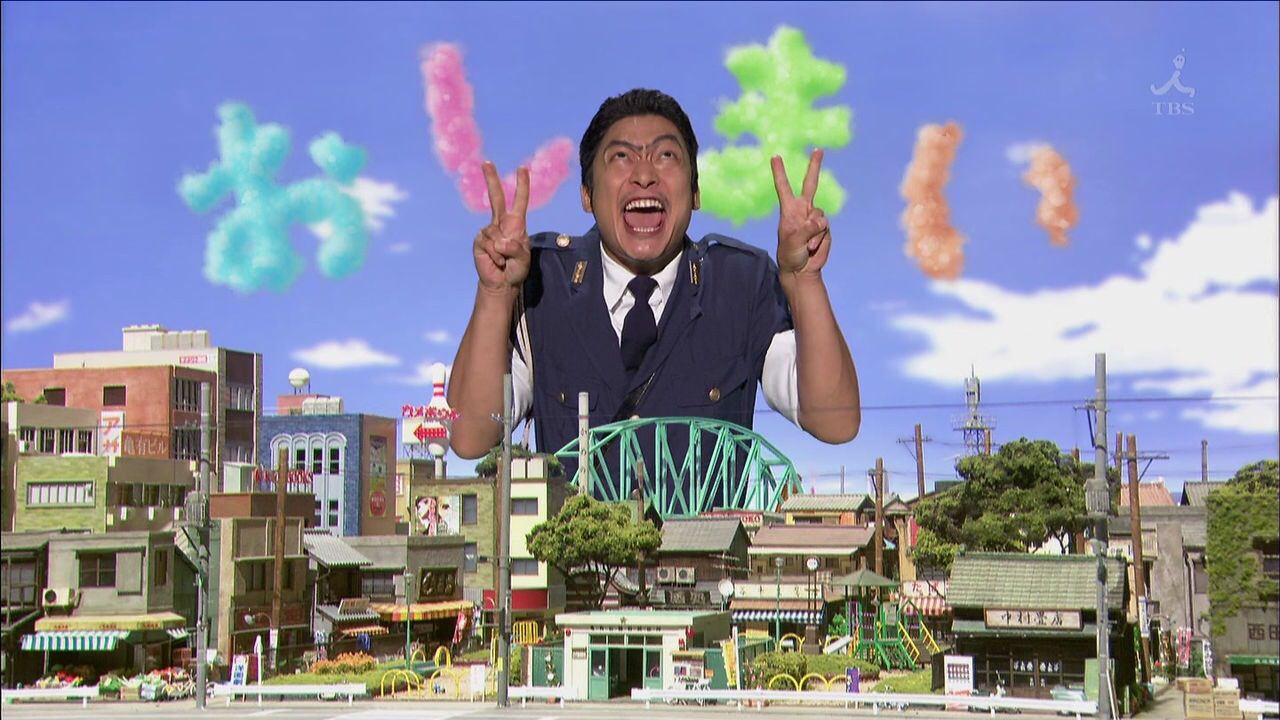face: (581, 114, 703, 270)
hand: (766, 147, 837, 282), (471, 163, 534, 295)
